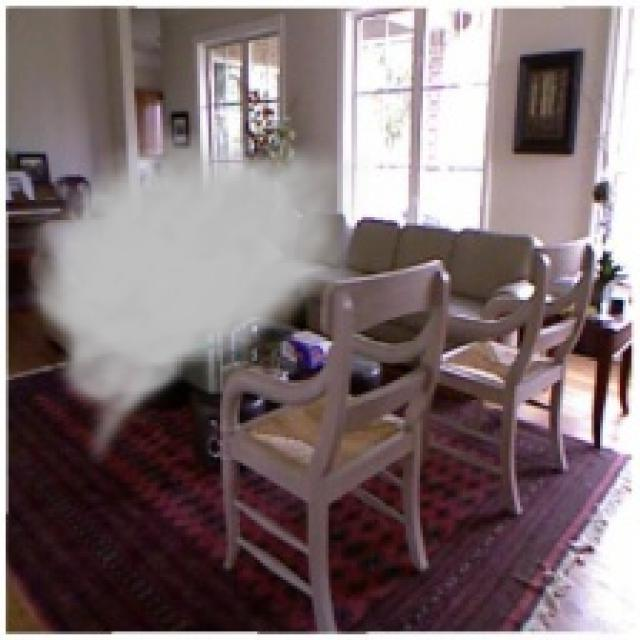smoke: (17, 126, 369, 471)
